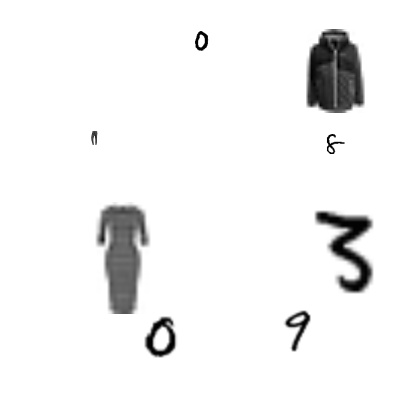0: (133, 309, 189, 365), (187, 27, 215, 55)
3: (292, 188, 404, 300)
8: (318, 129, 346, 157)
9: (270, 297, 326, 353)
Coat: (292, 29, 376, 113)
Dress: (65, 202, 177, 314)
Trouser: (87, 131, 101, 145)
